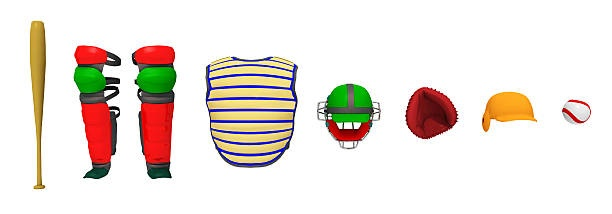bita: (30, 21, 48, 192)
